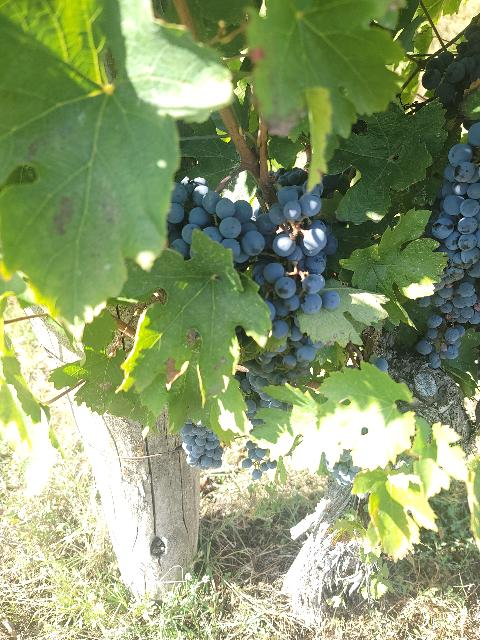grapes: (252, 168, 340, 385), (420, 122, 480, 359), (168, 178, 278, 266)
